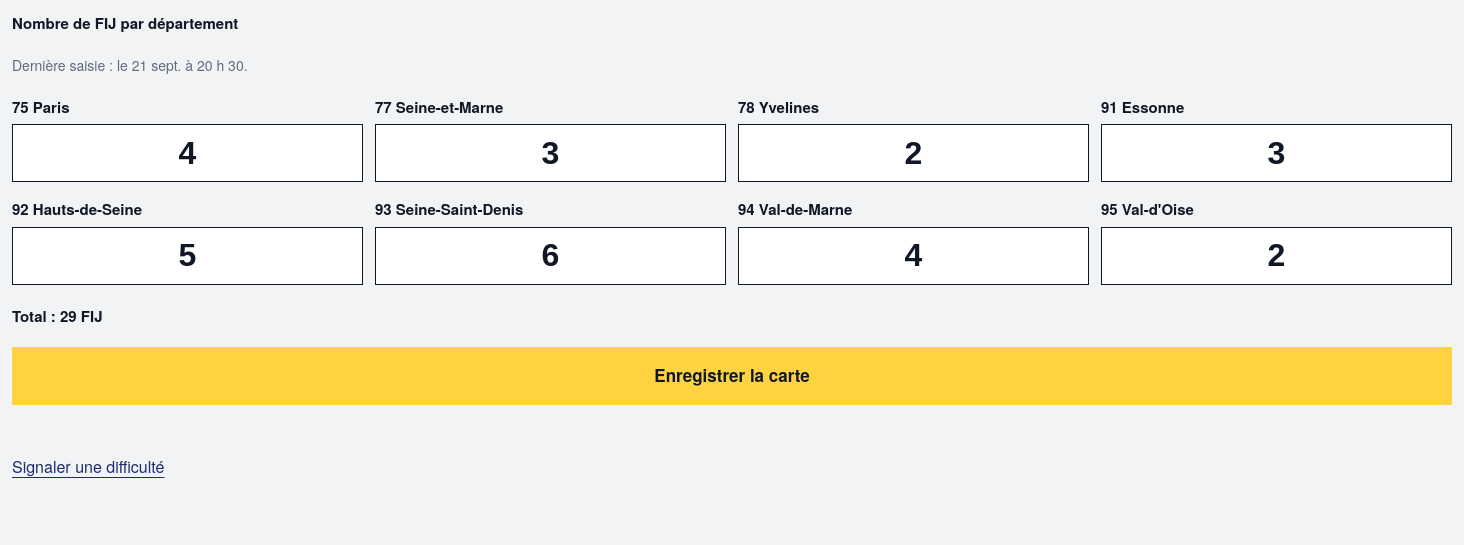
Test: FormulaireCarteFij › envoie les 8 départements en un envoi, puis « Carte des FIJ enregistrée. »
The width and height of the screenshot is (1464, 545).
Click the button named "Enregistrer la carte" at (732, 376), box 12,347 -> 1452,405
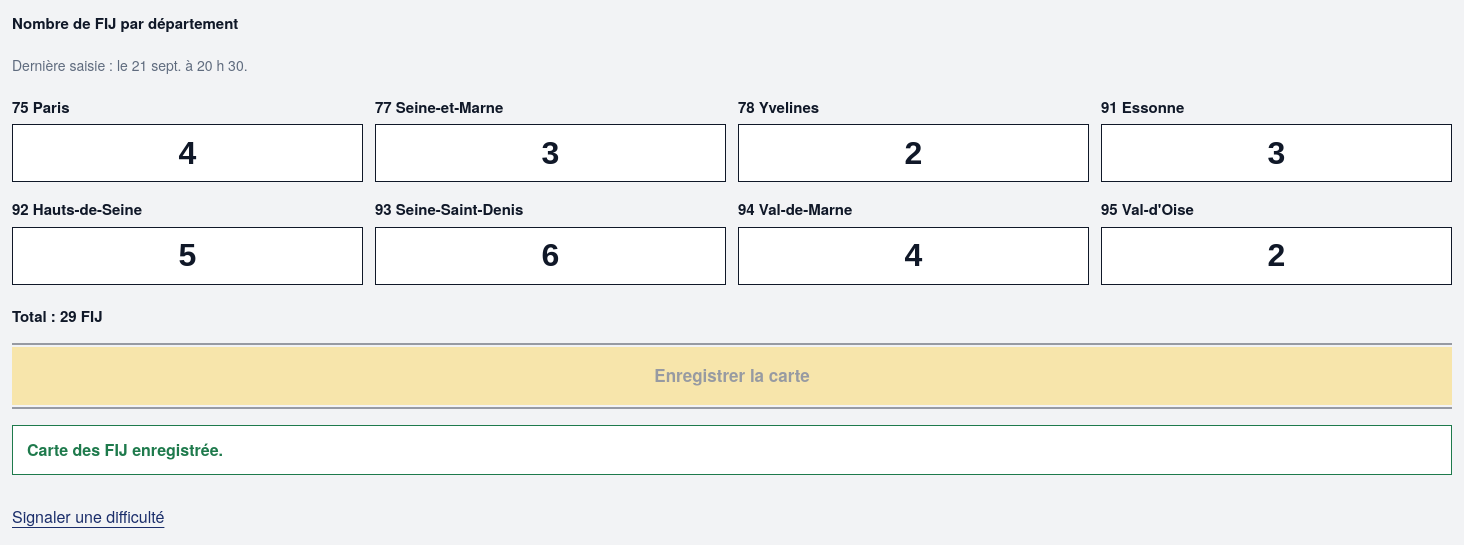
Now the text "Carte des FIJ enregistrée." is shown, box 12,425 -> 1452,475
